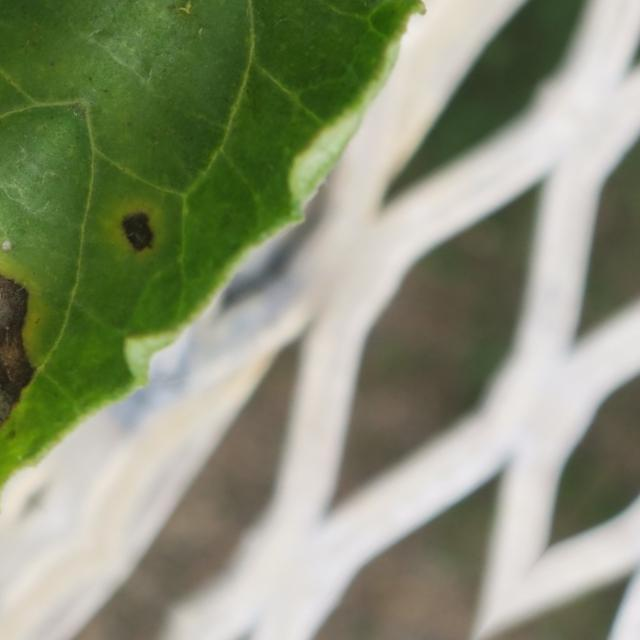Tomato Early blight leaf: (0, 0, 572, 614)
